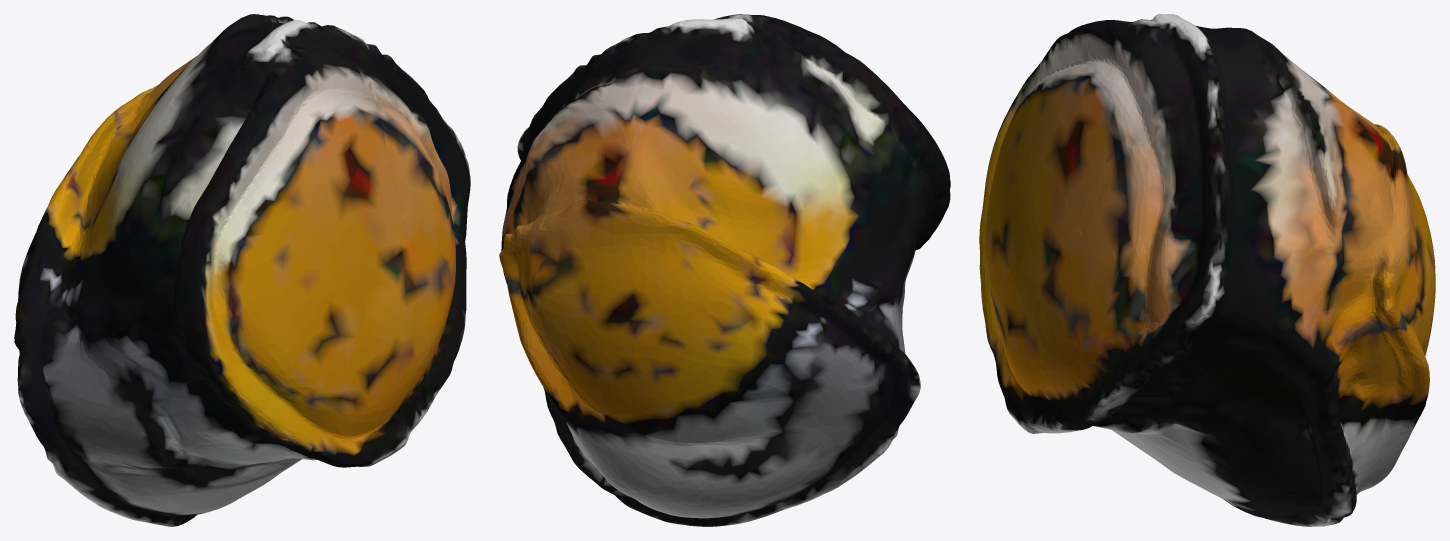
The model's file is stew_meat.glb.
3 renders of one model, left to right at view 1: azimuth 30°, elevation 25°; view 2: azimuth 150°, elevation 25°; view 3: azimuth 270°, elevation 25°, orthographic. The views are drawn at different scales.
Parts seen in each view (by area): view 1: geometry_0; view 2: geometry_0; view 3: geometry_0.
Part boxes in pixels (x1,y1,x2,y2): geometry_0: (14,14,470,526); geometry_0: (499,14,950,526); geometry_0: (979,14,1435,526).
Bounding box in the file's own units: 0.5312 × 0.5803 × 0.4608.
